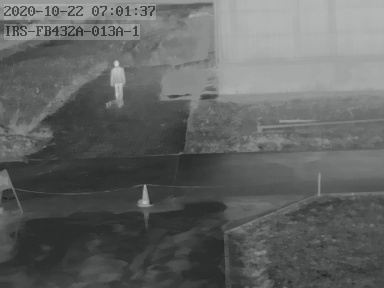person: (110, 60, 126, 106)
